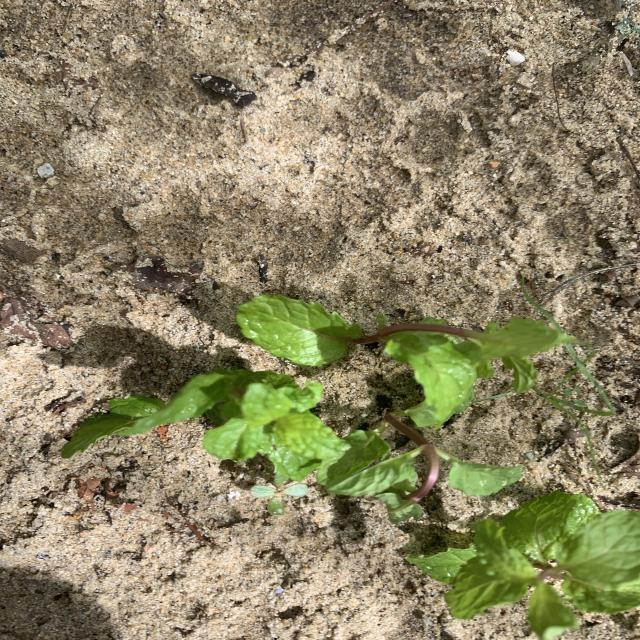crop: (237, 295, 576, 423), (407, 493, 639, 639), (63, 368, 344, 480), (325, 403, 522, 522)
weed: (536, 344, 616, 472), (251, 478, 307, 514)
